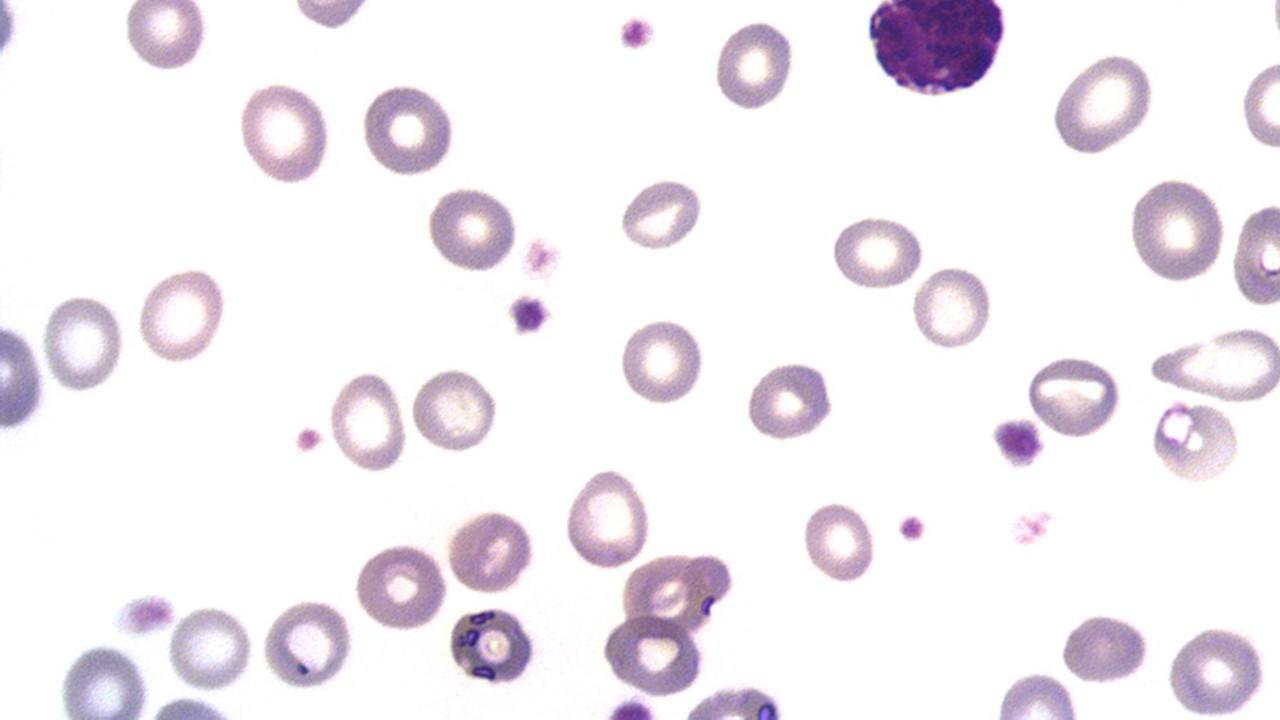Platelets: (1057, 610, 1153, 686), (109, 588, 180, 640), (987, 414, 1048, 472), (504, 290, 556, 340), (1005, 508, 1057, 548), (602, 694, 660, 718)
RBC: (1048, 48, 1156, 158), (1125, 174, 1229, 285), (1145, 322, 1279, 406), (237, 78, 334, 188), (1163, 620, 1273, 716), (358, 80, 461, 178), (561, 464, 653, 570), (134, 266, 230, 366), (598, 612, 708, 697), (261, 595, 356, 692), (351, 540, 449, 633), (41, 290, 126, 396), (424, 184, 523, 275), (1022, 354, 1126, 440), (327, 367, 408, 476), (616, 313, 706, 409), (712, 13, 796, 114), (1149, 397, 1243, 487), (409, 364, 500, 456), (742, 356, 836, 445), (828, 210, 928, 293), (446, 602, 543, 687), (444, 506, 536, 594), (167, 604, 255, 694), (910, 262, 993, 354), (1056, 607, 1152, 686), (54, 640, 151, 718), (800, 494, 878, 587), (616, 175, 705, 253), (122, 1, 210, 76), (1, 316, 49, 439), (1228, 197, 1280, 308), (992, 669, 1082, 718), (1240, 56, 1280, 153), (287, 1, 376, 31), (0, 1, 22, 68)
WBC: (858, 1, 1014, 98)
